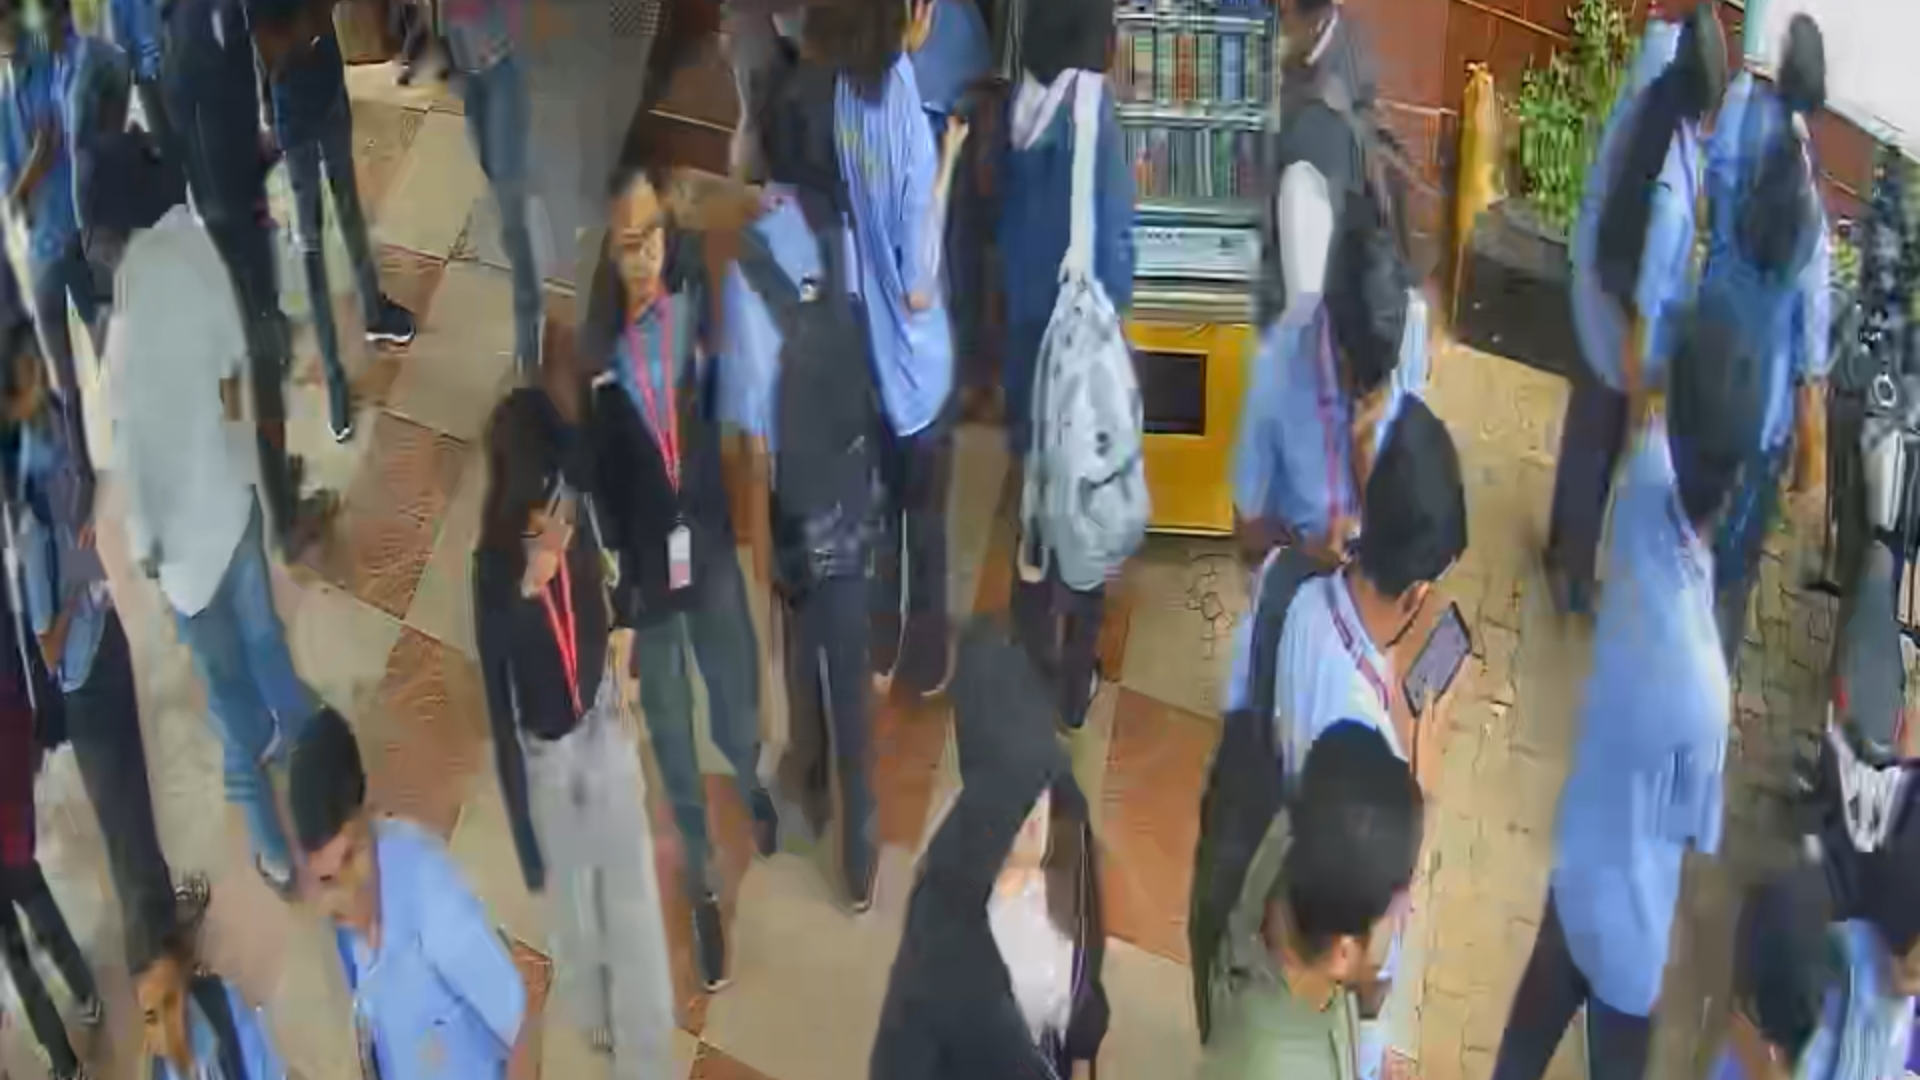not intruder: (587, 140, 785, 953), (468, 375, 684, 1080), (1244, 214, 1444, 556)
